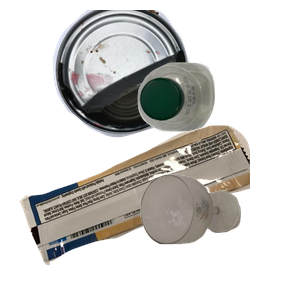glass: (138, 172, 300, 300)
metal: (50, 10, 262, 140)
plastic: (135, 60, 300, 184)
trash: (17, 123, 257, 300)
